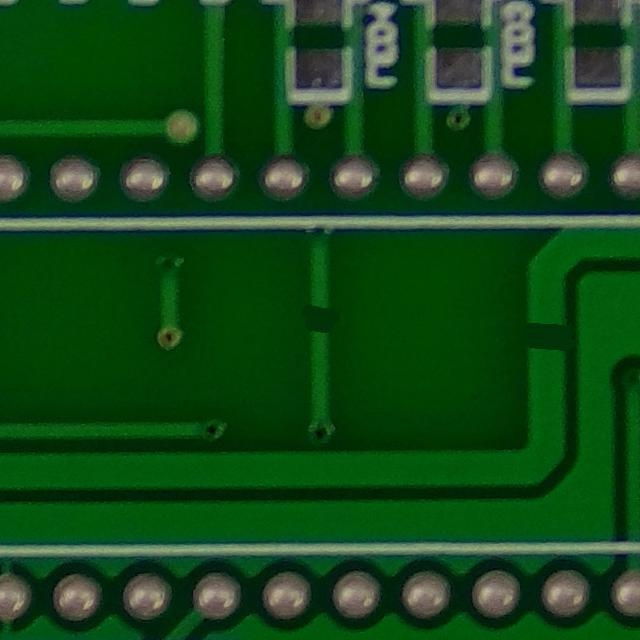open_circuit: (292, 295, 347, 346)
